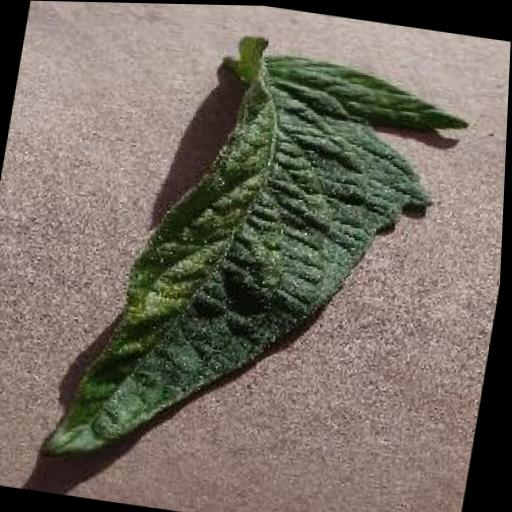Spider Mites: (45, 13, 478, 503)
